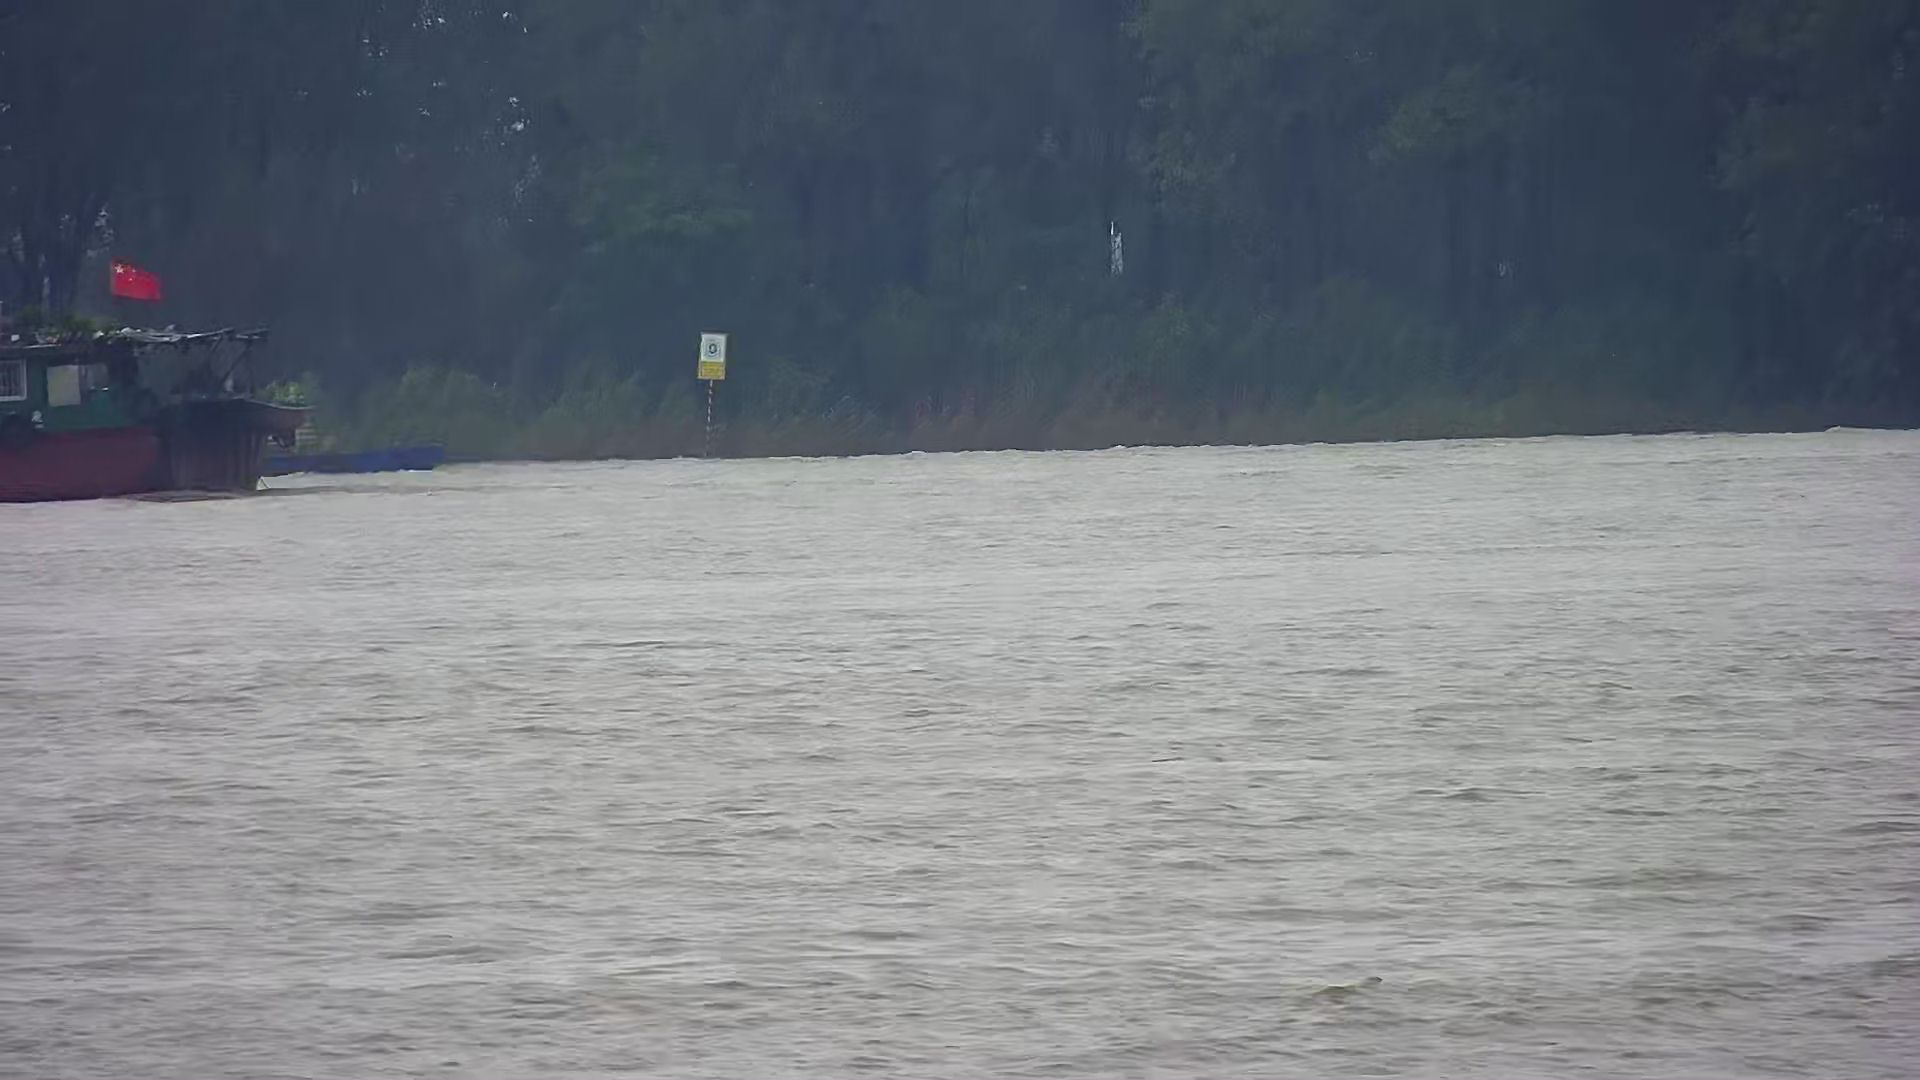boat: (268, 448, 446, 473)
mast: (698, 331, 727, 460)
ship: (1, 306, 305, 501)
